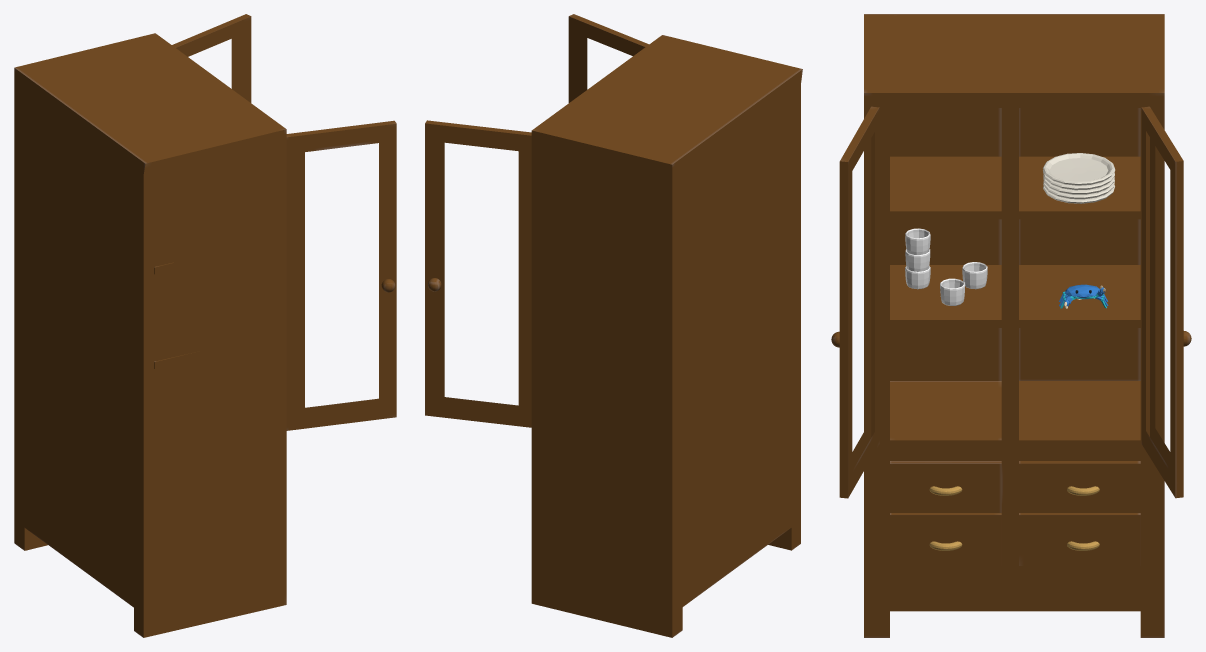
File: muebleplatos (1).fbx
The picture shows the model from 3 angles, left to right: view 1: azimuth 30°, elevation 25°; view 2: azimuth 150°, elevation 25°; view 3: azimuth 270°, elevation 25°; orthographic projection. The views are drawn at different scales.
Visible parts, largest first — view 1: Cube, puerta 1, puerta 2; view 2: Cube, puerta 2, puerta 1; view 3: Cube, Plane.001, Plane, puerta 2, puerta 1, Plato_05, Taza_03, Taza_04, Taza_02.
Boxes of the visible parts, x1=… form: Cube: x1=14, y1=33, x2=286, y2=637; puerta 1: x1=286, y1=120, x2=396, y2=430; puerta 2: x1=172, y1=14, x2=251, y2=102; Cube: x1=531, y1=35, x2=802, y2=637; puerta 2: x1=425, y1=120, x2=531, y2=427; puerta 1: x1=568, y1=14, x2=648, y2=102; Cube: x1=864, y1=14, x2=1164, y2=637; Plane.001: x1=890, y1=265, x2=1140, y2=327; Plane: x1=890, y1=156, x2=1140, y2=219; puerta 2: x1=1141, y1=106, x2=1191, y2=498; puerta 1: x1=831, y1=106, x2=879, y2=498; Plato_05: x1=1043, y1=153, x2=1115, y2=185; Taza_03: x1=962, y1=262, x2=987, y2=289; Taza_04: x1=940, y1=278, x2=964, y2=305; Taza_02: x1=905, y1=228, x2=930, y2=254.
Size of the model in its own units: 343 by 644 by 386.
Materials: 19 (10 with a texture image).
